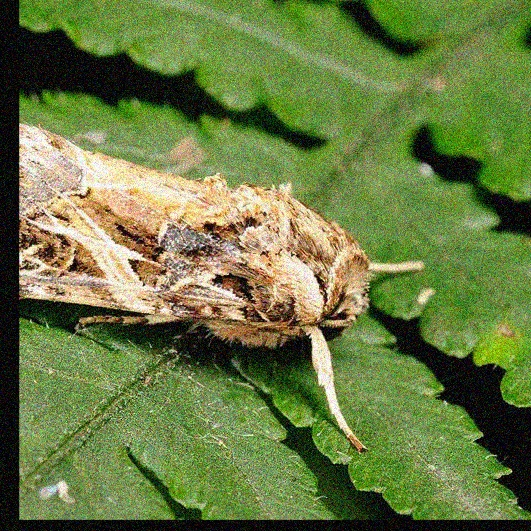Spodoptera litura: (19, 117, 425, 454)
